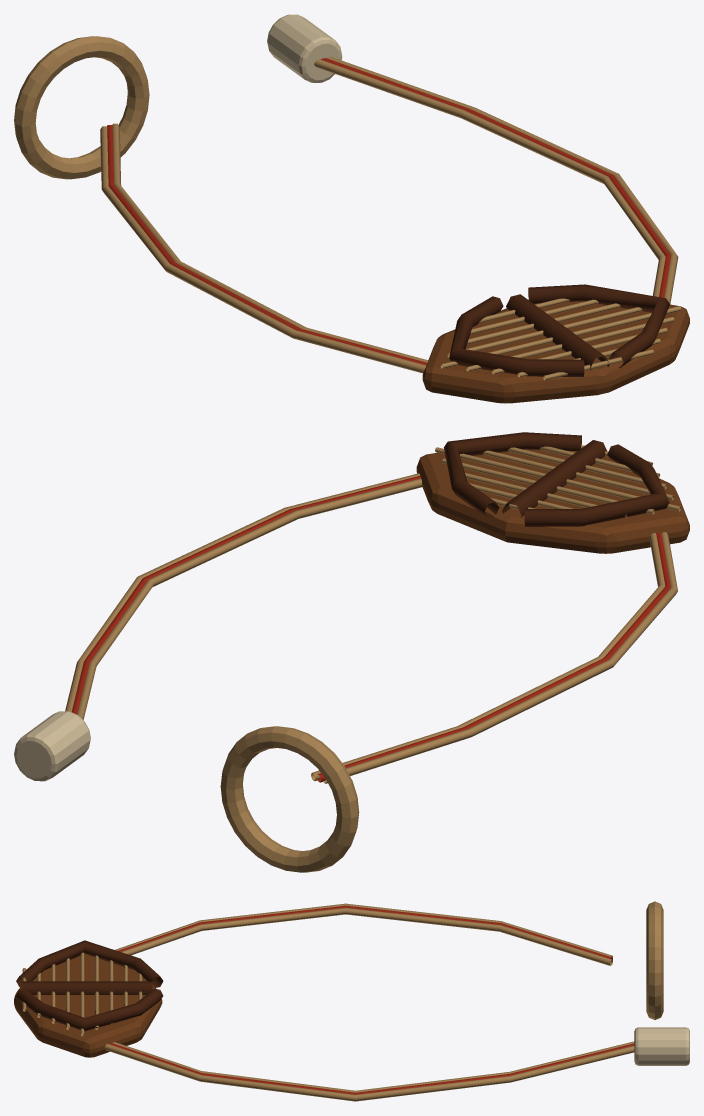
File: sling_LOD0.glb
The picture shows the model from 3 angles, top to bottom: view 1: azimuth 30°, elevation 25°; view 2: azimuth 150°, elevation 25°; view 3: azimuth 270°, elevation 25°; orthographic projection. The views are drawn at different scales.
Visible parts, largest first — view 1: SlingCuppedPouch, SlingFingerLoop, SlingReleaseBraid, SlingRetentionBraid, SlingPouchReinforcedEdge, SlingPouchReinforcedEdge.001, SlingBoneReleaseToggle, SlingReleaseBraid.002, SlingRetentionBraid.002, SlingPouchCenterSpine, SlingReleaseBraid.001, SlingRetentionBraid.001 (+5 smaller); view 2: SlingCuppedPouch, SlingFingerLoop, SlingReleaseBraid, SlingRetentionBraid, SlingBoneReleaseToggle, SlingPouchReinforcedEdge, SlingPouchReinforcedEdge.001, SlingRetentionBraid.002, SlingPouchCenterSpine, SlingReleaseBraid.002, SlingReleaseBraid.001, SlingRetentionBraid.001 (+4 smaller); view 3: SlingCuppedPouch, SlingReleaseBraid.002, SlingRetentionBraid.002, SlingBoneReleaseToggle, SlingPouchReinforcedEdge.001, SlingPouchReinforcedEdge, SlingFingerLoop, SlingPouchCenterSpine, SlingReleaseBraid.001, SlingReleaseBraid, SlingRetentionBraid, SlingRetentionBraid.001.
Boxes of the visible parts, x1,y1,x2,y2 form: SlingCuppedPouch: (422, 301, 689, 403); SlingFingerLoop: (14, 36, 149, 179); SlingReleaseBraid: (314, 59, 665, 296); SlingRetentionBraid: (100, 126, 426, 373); SlingPouchReinforcedEdge: (449, 296, 584, 376); SlingPouchReinforcedEdge.001: (528, 284, 669, 367); SlingBoneReleaseToggle: (267, 14, 342, 82); SlingReleaseBraid.002: (326, 56, 678, 303); SlingRetentionBraid.002: (112, 123, 428, 362); SlingPouchCenterSpine: (506, 294, 609, 370); SlingReleaseBraid.001: (321, 58, 671, 297); SlingRetentionBraid.001: (107, 125, 427, 365); SlingCuppedPouch: (416, 449, 689, 553); SlingFingerLoop: (220, 726, 359, 872); SlingReleaseBraid: (77, 478, 422, 719); SlingRetentionBraid: (323, 532, 677, 783); SlingBoneReleaseToggle: (14, 711, 90, 781); SlingPouchReinforcedEdge: (524, 444, 669, 526); SlingPouchReinforcedEdge.001: (444, 432, 581, 517); SlingRetentionBraid.002: (311, 533, 665, 781); SlingPouchCenterSpine: (502, 440, 606, 517); SlingReleaseBraid.002: (65, 473, 419, 711); SlingReleaseBraid.001: (72, 476, 420, 714); SlingRetentionBraid.001: (317, 532, 670, 782); SlingCuppedPouch: (14, 954, 162, 1057); SlingReleaseBraid.002: (104, 1044, 634, 1101); SlingRetentionBraid.002: (121, 907, 612, 965); SlingBoneReleaseToggle: (634, 1027, 689, 1065); SlingPouchReinforcedEdge.001: (16, 988, 163, 1031); SlingPouchReinforcedEdge: (16, 940, 163, 987); SlingFingerLoop: (646, 901, 663, 1019); SlingPouchCenterSpine: (22, 981, 152, 994); SlingReleaseBraid.001: (109, 1043, 634, 1094); SlingReleaseBraid: (112, 1041, 634, 1092); SlingRetentionBraid: (115, 903, 612, 958); SlingRetentionBraid.001: (118, 905, 612, 960).
Size of the model in its own units: 0.854 by 0.246 by 1.4.
